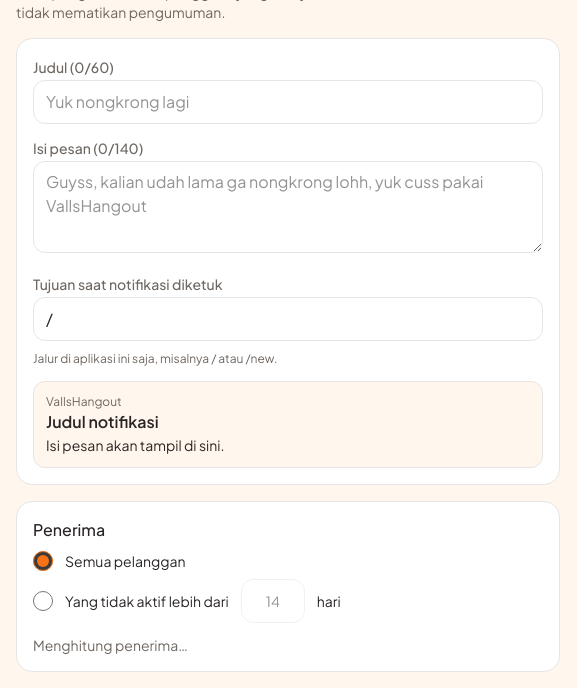
it: <AdminPush /> pesan uji › mengirim isian yang sama beserta endpoint perangkat ini
The width and height of the screenshot is (577, 688).
Type "Judul uji" into the field labelled "Judul (0/60)" at (288, 102), box [33,80,543,124]
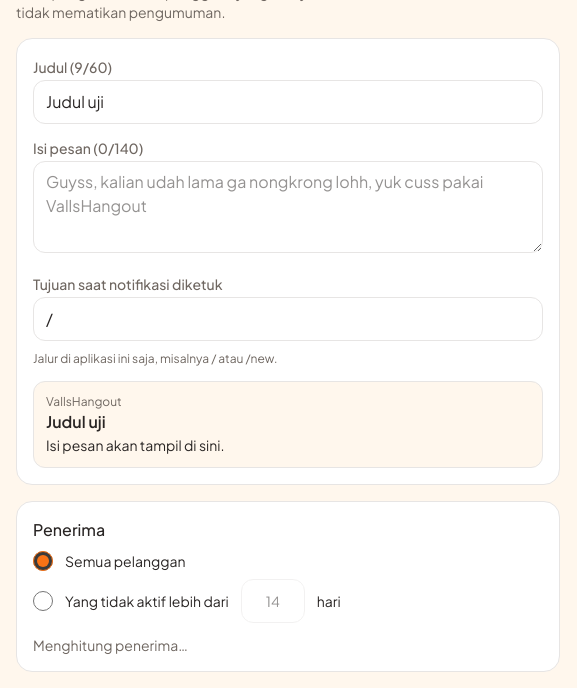
Replace the text in the text box labelled "Isi pesan (0/140)" with "Isi uji" at (288, 207), box [33,161,543,253]
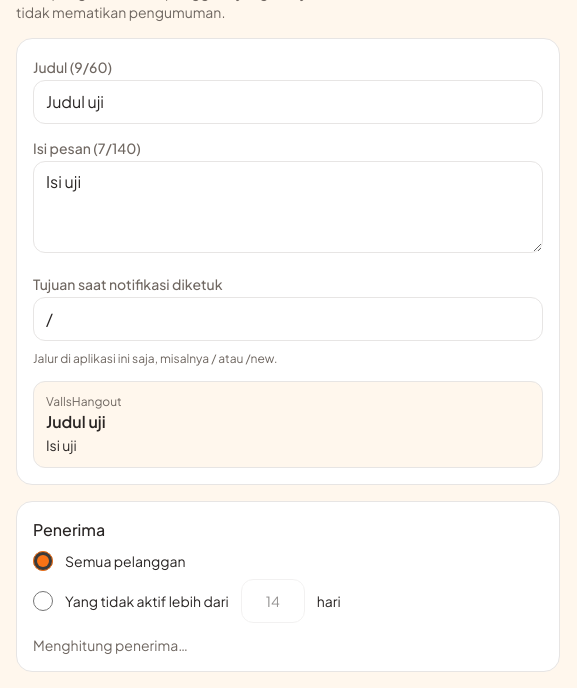
Type "/new" into the field with placeholder "/" at (288, 319), box [33,297,543,341]
(page scrolled)
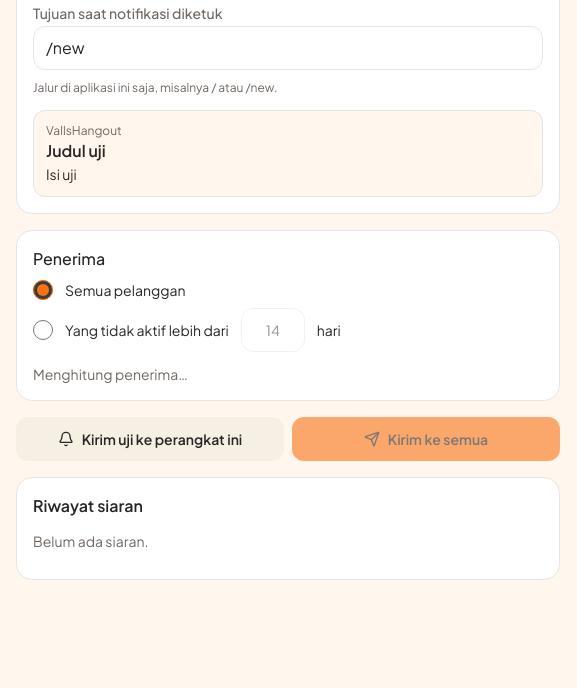
Click the button "Kirim uji ke perangkat ini" at (150, 439), box [16,417,284,461]
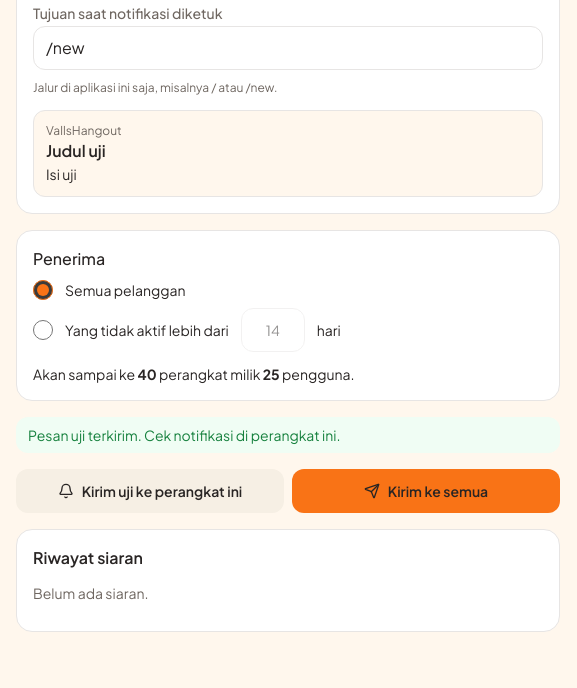
Result: the message shows "Pesan uji terkirim" at [28,426,340,444]
